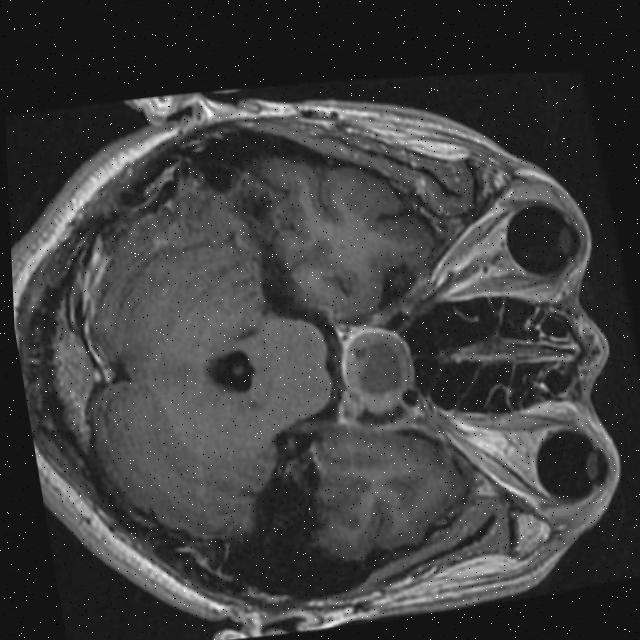Pituitary: (332, 320, 421, 417)
